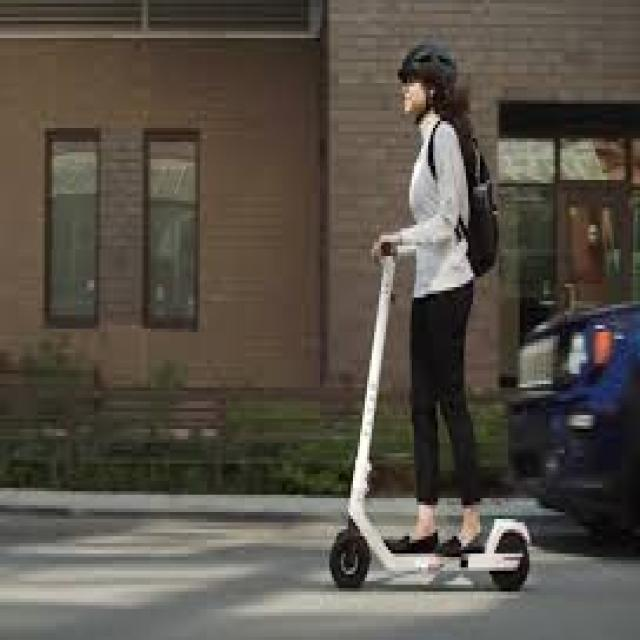helmet: (322, 33, 542, 601)
